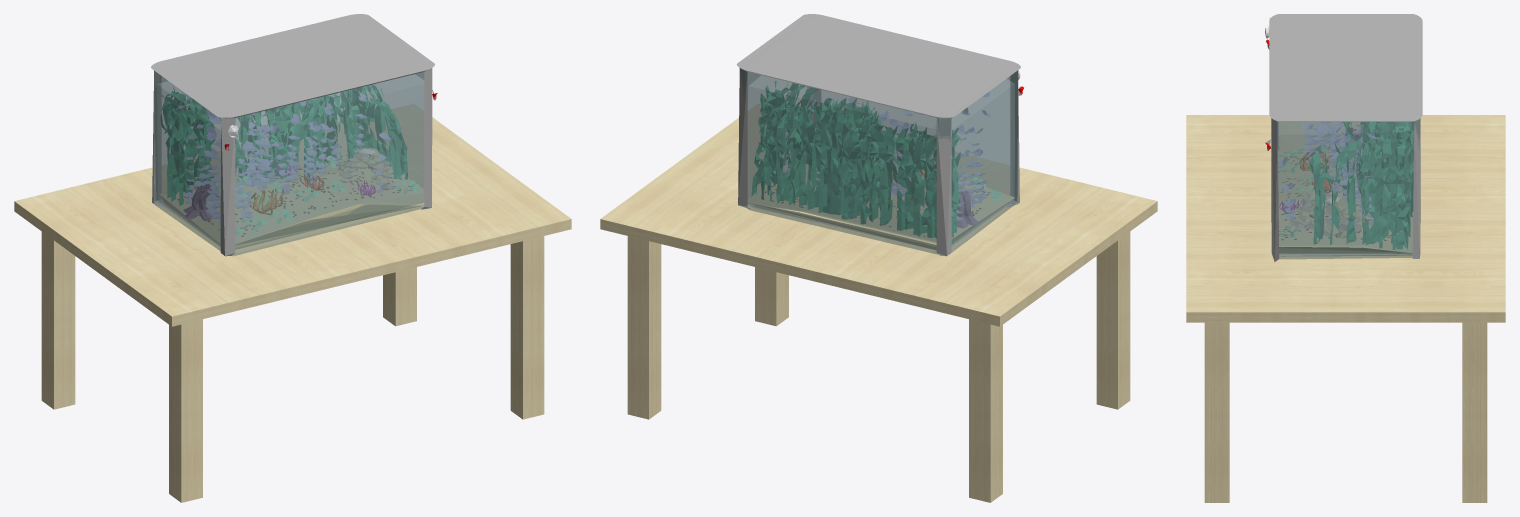
The model's file is aquarium.glb.
The picture shows the model from 3 angles, left to right: view 1: azimuth 30°, elevation 25°; view 2: azimuth 150°, elevation 25°; view 3: azimuth 270°, elevation 25°; orthographic projection.
Visible parts, largest first — view 1: leg_front_lf_tabble_0, glass_2_glass_0, cup_aquarium body_0, green_algae_green algae_0, sand_sand_0, watter_watter_0, blue_algae_blue algae 1_0, green_bush_green bushes_0; view 2: leg_front_lf_tabble_0, glass_2_glass_0, cup_aquarium body_0, green_algae_green algae_0, watter_watter_0, sand_sand_0, blue_algae_blue algae 1_0; view 3: leg_front_lf_tabble_0, cup_aquarium body_0, glass_2_glass_0, green_algae_green algae_0, sand_sand_0, blue_algae_blue algae 1_0, watter_watter_0, house_stone1_0, house_stone2_0, green_bush_green bushes_0.
Part boxes in pixels (x1,y1,x2,y2): leg_front_lf_tabble_0: (14,104,571,502); glass_2_glass_0: (154,71,424,256); cup_aquarium body_0: (151,14,434,256); green_algae_green algae_0: (161,84,407,205); sand_sand_0: (160,153,424,253); watter_watter_0: (157,75,423,244); blue_algae_blue algae 1_0: (178,92,391,222); green_bush_green bushes_0: (216,155,418,236); leg_front_lf_tabble_0: (600,104,1157,502); glass_2_glass_0: (740,68,1018,254); cup_aquarium body_0: (736,14,1020,256); green_algae_green algae_0: (751,81,960,243); watter_watter_0: (748,76,1014,247); sand_sand_0: (748,157,1014,249); blue_algae_blue algae 1_0: (782,92,990,220); leg_front_lf_tabble_0: (1186,115,1505,502); cup_aquarium body_0: (1269,14,1422,261); glass_2_glass_0: (1277,119,1420,259); green_algae_green algae_0: (1309,121,1414,249); sand_sand_0: (1278,151,1412,253); blue_algae_blue algae 1_0: (1278,122,1389,228); watter_watter_0: (1278,122,1407,255); house_stone1_0: (1290,193,1361,236); house_stone2_0: (1297,189,1346,238); green_bush_green bushes_0: (1278,148,1371,237).
Size of the model in its own units: 378 by 308 by 258.
24 materials, 2 textured.
